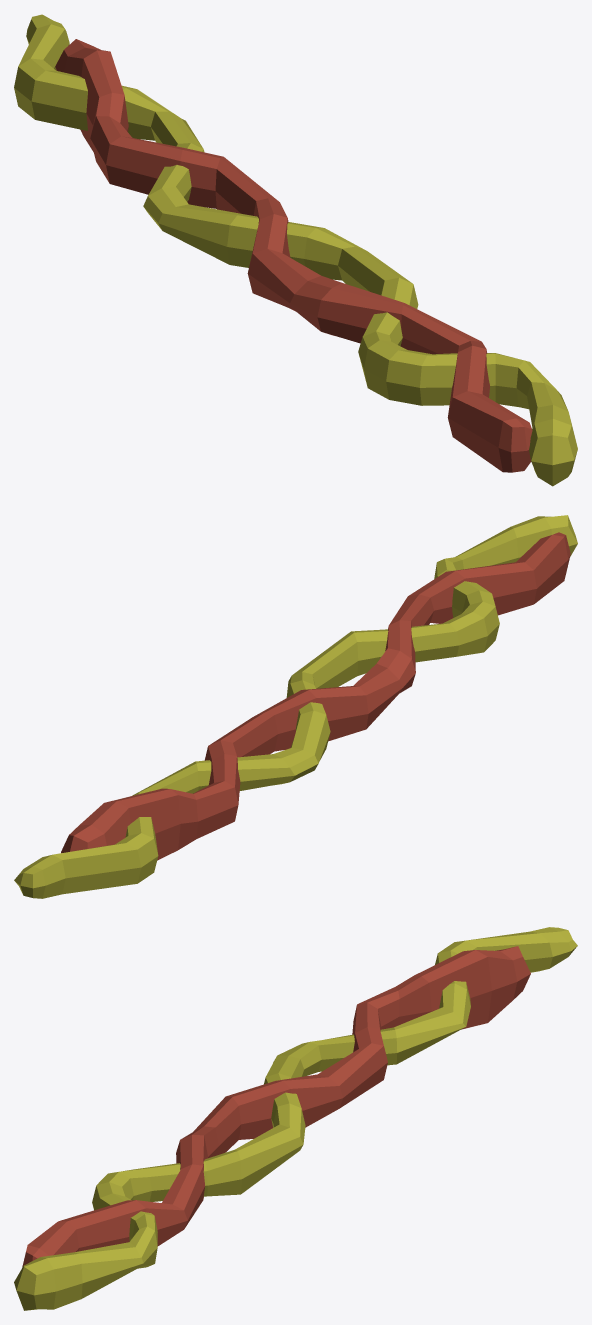
The model's file is KetchupMustard.glb.
3 views of the same model, one above another, from view 1: azimuth 30°, elevation 25°; view 2: azimuth 150°, elevation 25°; view 3: azimuth 330°, elevation 25° (orthographic). The views are drawn at different scales.
Visible parts, largest first — view 1: KetchupMustard; view 2: KetchupMustard; view 3: KetchupMustard.
Boxes of the visible parts, x1,y1,x2,y2 form: KetchupMustard: (14, 14, 577, 486); KetchupMustard: (14, 515, 577, 898); KetchupMustard: (14, 927, 577, 1310).
Size of the model in its own units: 0.0277 by 0.018 by 0.2177.
